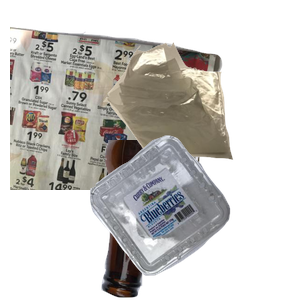glass: (99, 140, 300, 300)
paper: (10, 22, 225, 202)
plastic: (88, 133, 300, 300)
trash: (101, 40, 300, 192)
